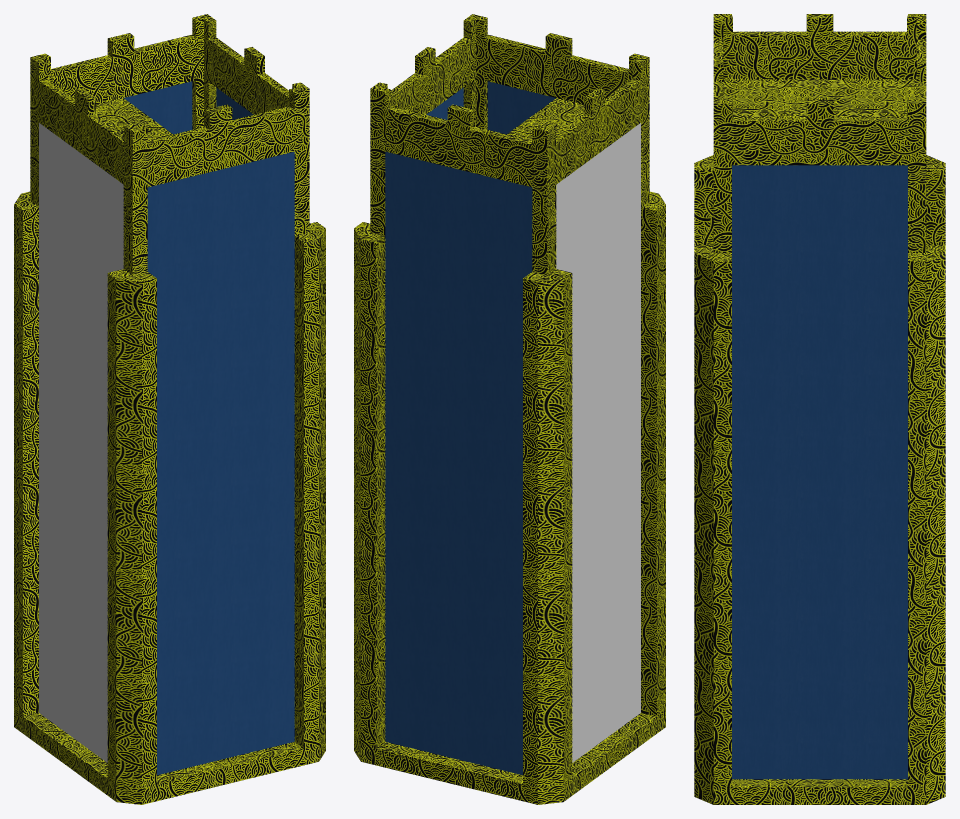
The model's file is Tower.fbx.
3 views of the same model, side by side, from view 1: azimuth 30°, elevation 25°; view 2: azimuth 150°, elevation 25°; view 3: azimuth 270°, elevation 25° (orthographic). The views are drawn at different scales.
Visible parts, largest first — view 1: Plane; view 2: Plane; view 3: Plane.
Boxes of the visible parts, x1,y1,x2,y2 form: Plane: [14, 14, 325, 804]; Plane: [354, 14, 665, 804]; Plane: [694, 14, 945, 804].
Size of the model in its own units: 2600 by 7900 by 2600.
